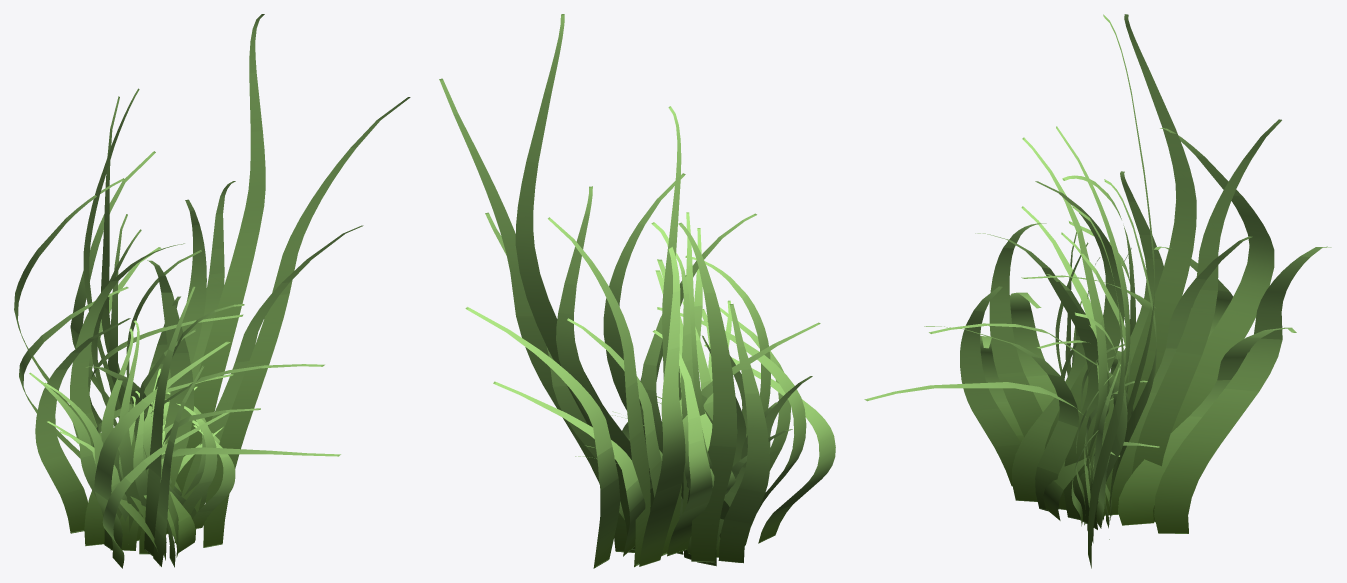
The model's file is giantMantaRayPlantsCoral.fbx.
3 renders of one model, left to right at view 1: azimuth 30°, elevation 25°; view 2: azimuth 150°, elevation 25°; view 3: azimuth 270°, elevation 25°, orthographic. The views are drawn at different scales.
Visible parts, largest first — view 1: Plants07, Plants04, Plants05, Plants08, Plants06; view 2: Plants07, Plants04, Plants05, Plants08, Plants06; view 3: Plants05, Plants04, Plants07, Plants06, Plants08.
Boxes of the visible parts, <box> form: Plants07: <box>35,14,410,554</box>; Plants04: <box>14,151,340,568</box>; Plants05: <box>83,88,260,567</box>; Plants08: <box>29,328,235,534</box>; Plants06: <box>44,320,219,550</box>; Plants07: <box>439,14,820,566</box>; Plants04: <box>465,222,835,568</box>; Plants05: <box>548,106,790,567</box>; Plants08: <box>585,335,777,563</box>; Plants06: <box>575,321,812,557</box>; Plants05: <box>924,14,1281,522</box>; Plants04: <box>864,128,1331,533</box>; Plants07: <box>1021,14,1156,568</box>; Plants06: <box>1055,232,1159,528</box>; Plants08: <box>1071,248,1131,526</box>.
Size of the model in its own units: 742 by 1001 by 734.
